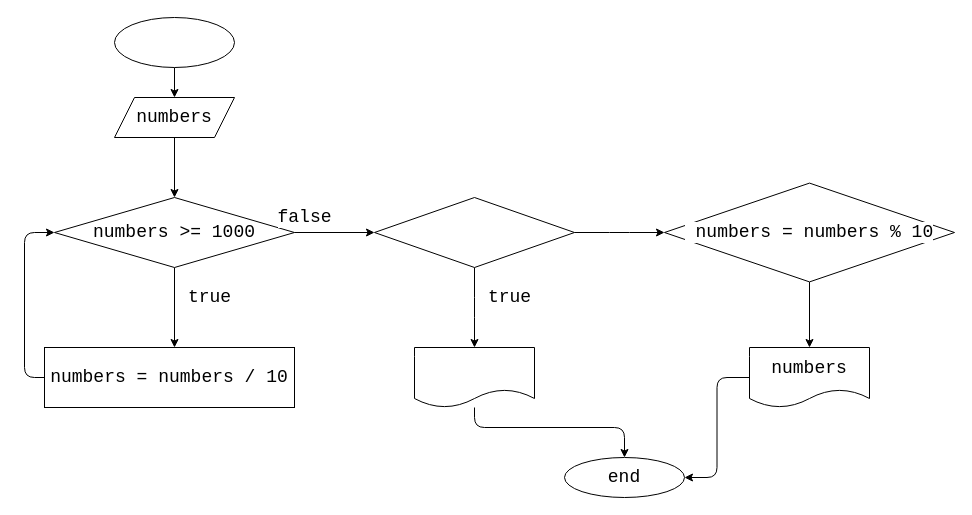
The diagram is 972 pixels wide and 515 high, and some of its shapes have lost their labels. Here are the shapes that lost their labels. From the top down, the centre of each, then its label:
(174,42): start
(474,232): numbers < 100
(474,377): третьей цифры нет
